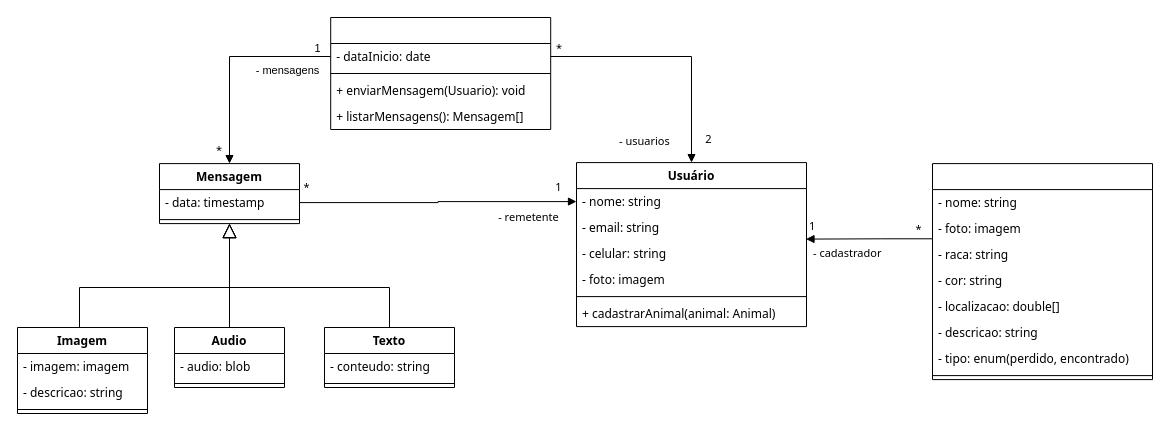
Image size: 1170x431. Some labels were removed from this diagram. Each missing label, with the box of its shape:
Animal: (932, 163, 1152, 380)
Chat: (330, 16, 551, 130)
